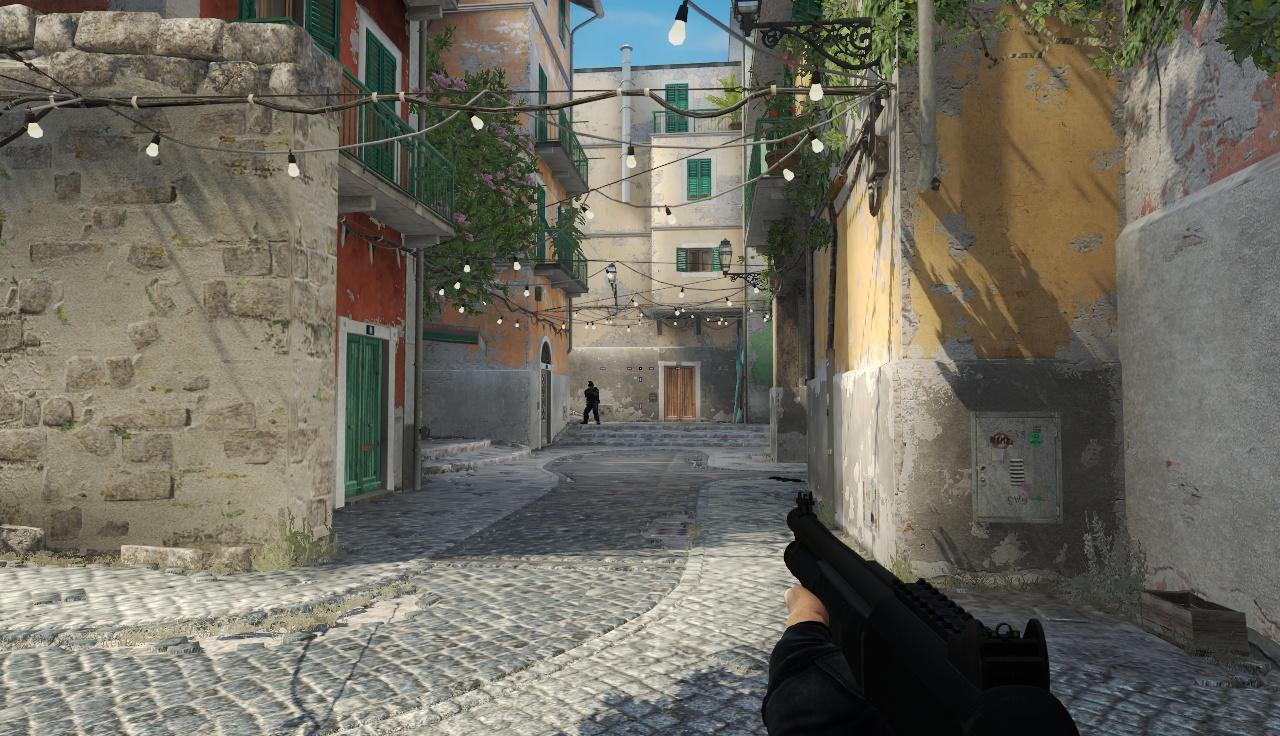ct: (583, 380, 601, 425)
cthead: (588, 381, 595, 390)
shotgun: (781, 490, 1077, 736)
